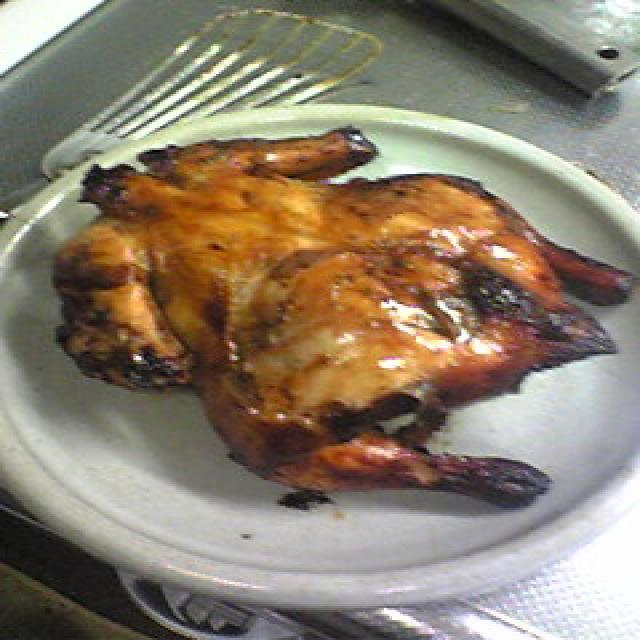Chicken roast: (67, 114, 629, 518)
